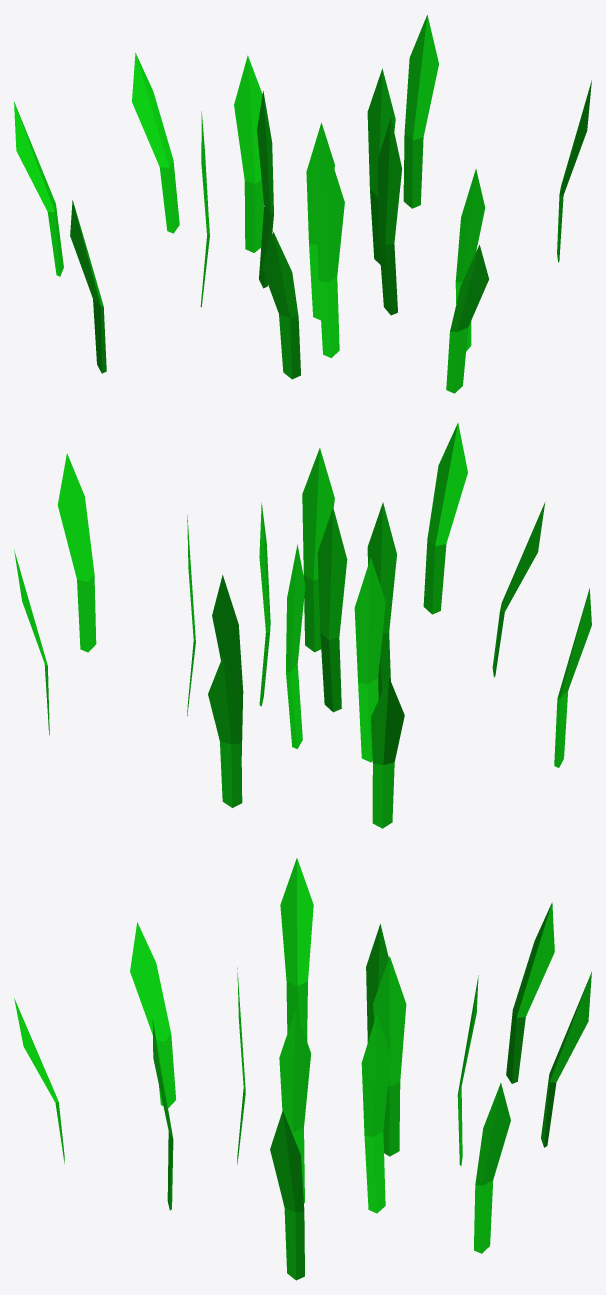
Rendered from Rumput.fbx.
3 views of the same model, one above another, from view 1: azimuth 30°, elevation 25°; view 2: azimuth 150°, elevation 25°; view 3: azimuth 270°, elevation 25° (orthographic). The views are drawn at different scales.
Parts seen in each view (by area): view 1: Plane; view 2: Plane; view 3: Plane.
Boxes of the visible parts, left/top/right/bottom form: Plane: left=14, top=15, right=591, bottom=393; Plane: left=14, top=422, right=591, bottom=828; Plane: left=14, top=858, right=591, bottom=1280.
Size of the model in its own units: 33.91 by 13.36 by 32.76.
